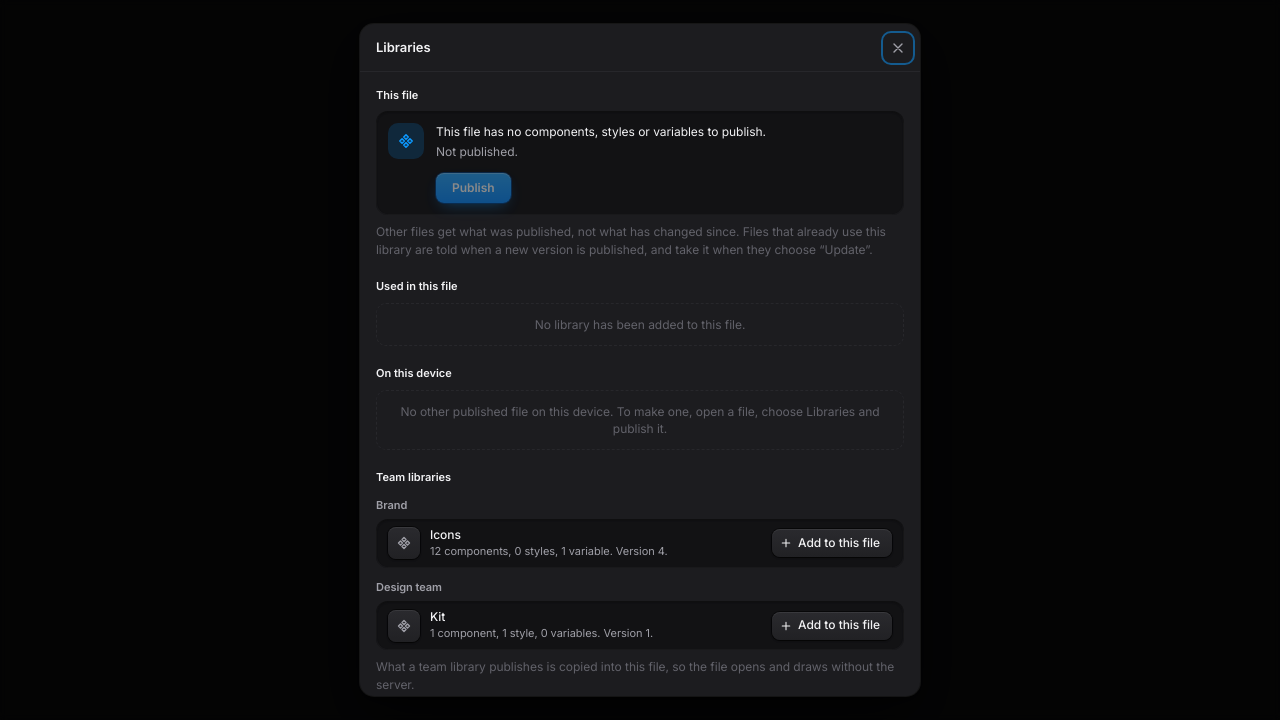
Test: the Libraries dialog › lists team libraries by workspace and adds one to the file, with its images
Check: the element "Brand" shows "Icons", box x1=430 y1=527 x2=461 y2=542
Check: the element "Brand" shows "12 components, 0 styles, 1 variable", box x1=430 y1=544 x2=610 y2=558
Click the button with aria-label "Add Kit": (832, 626) x1=772 y1=612 x2=892 y2=640
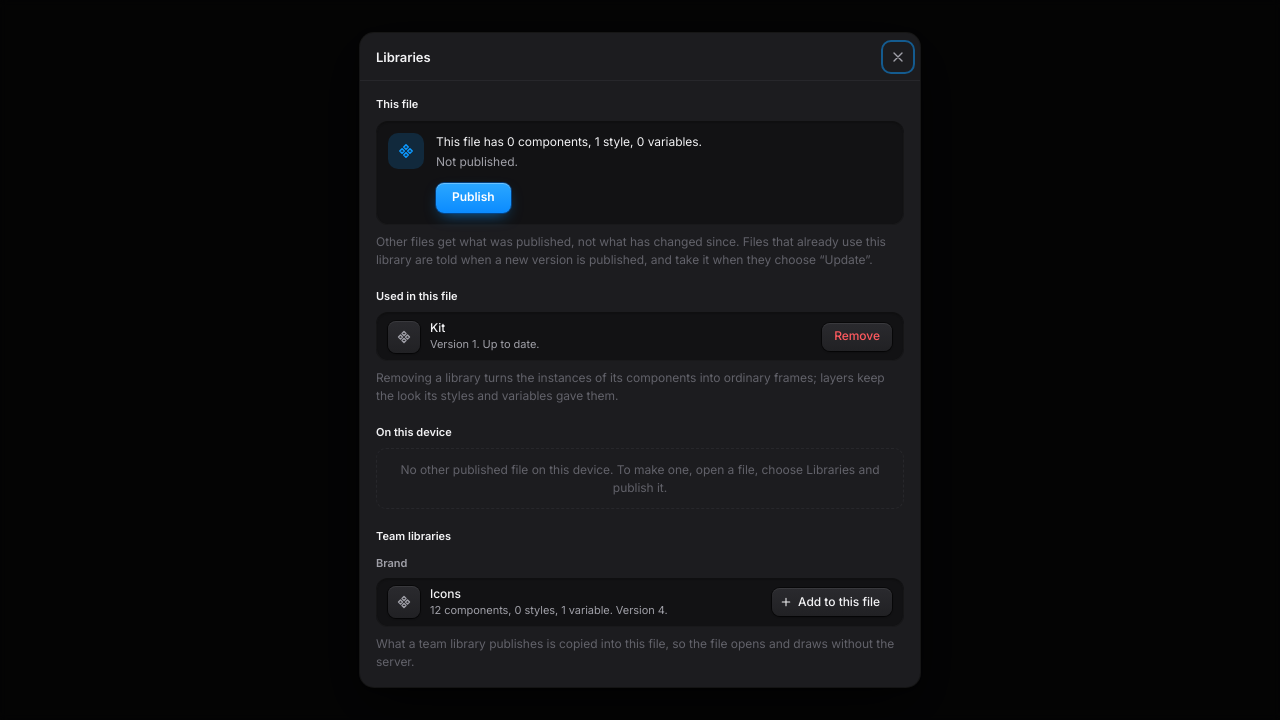
Check: the element named "Libraries used in this file" shows "Version 1. Up to date.", box x1=376 y1=289 x2=904 y2=405
Check: the heading "Design team" is gone
